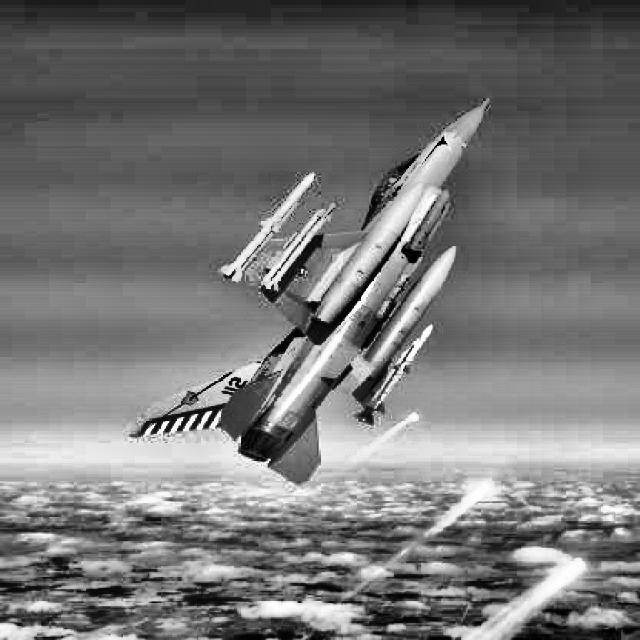F16: (130, 95, 492, 490)
